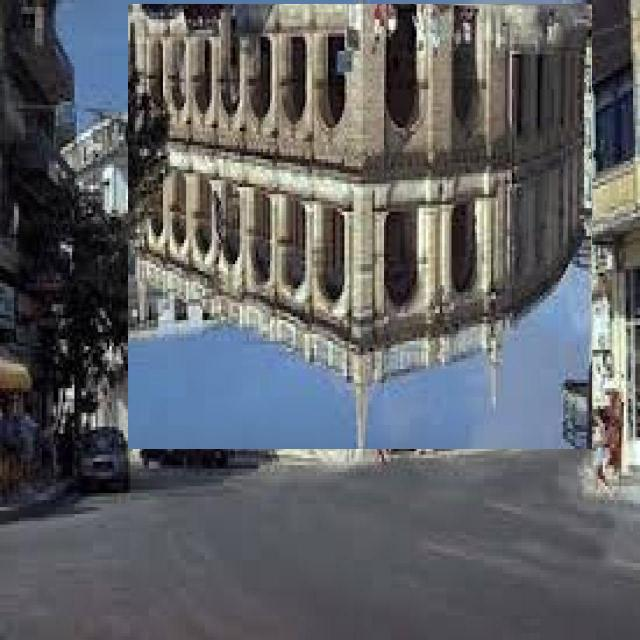Loggia: (129, 5, 593, 450)
